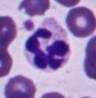N: (25, 22, 70, 72)
